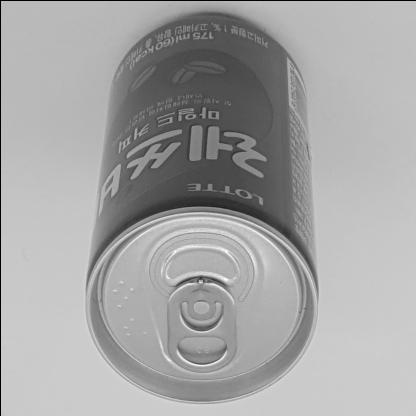alumunium_can: (78, 10, 324, 398)
